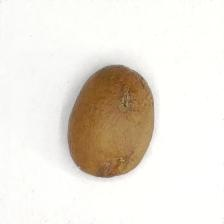NG: (114, 86, 139, 118), (93, 157, 126, 178)
